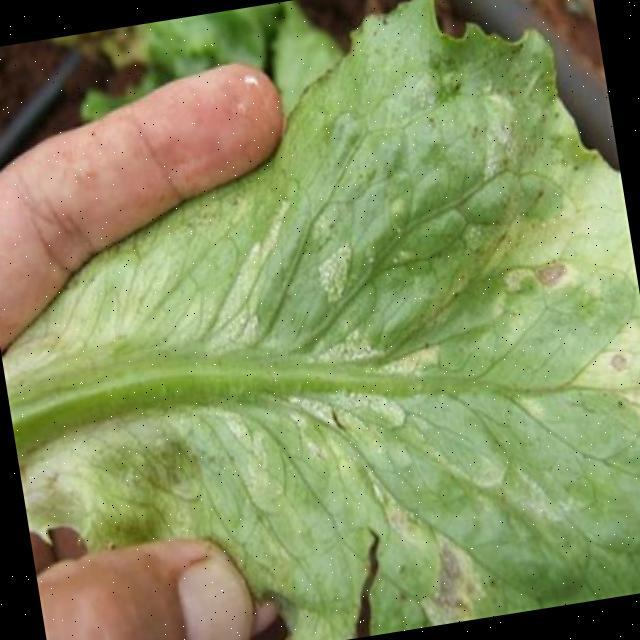Lettuce Mosaic Virus: (205, 136, 640, 640)
